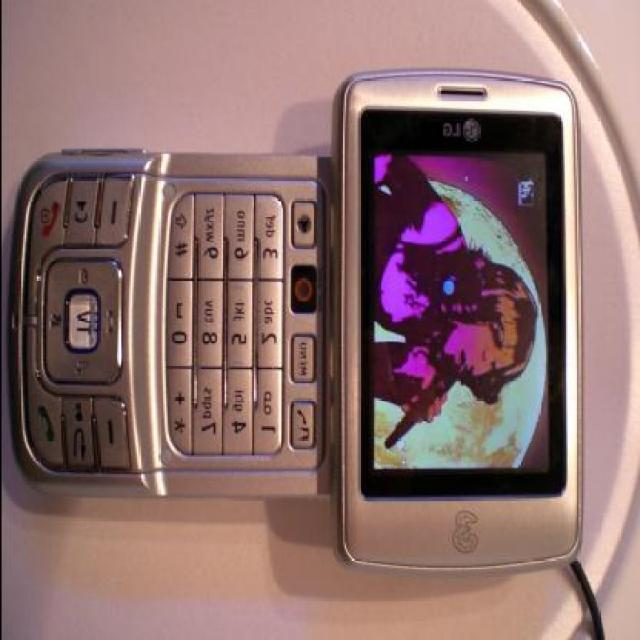phone: (34, 55, 597, 603)
